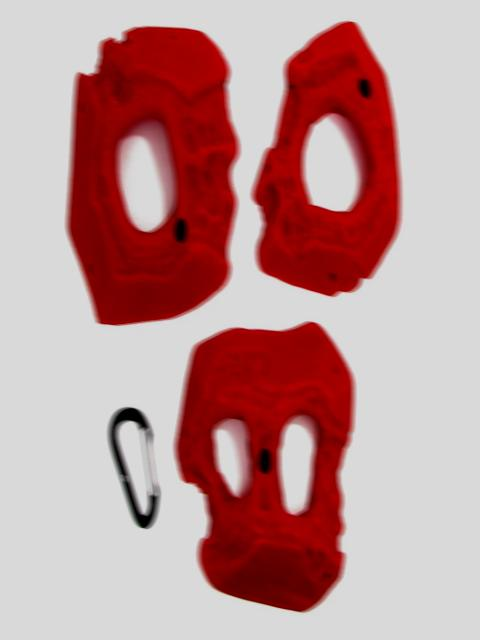pocket: (175, 322, 353, 609), (67, 28, 238, 322), (252, 22, 399, 295)
